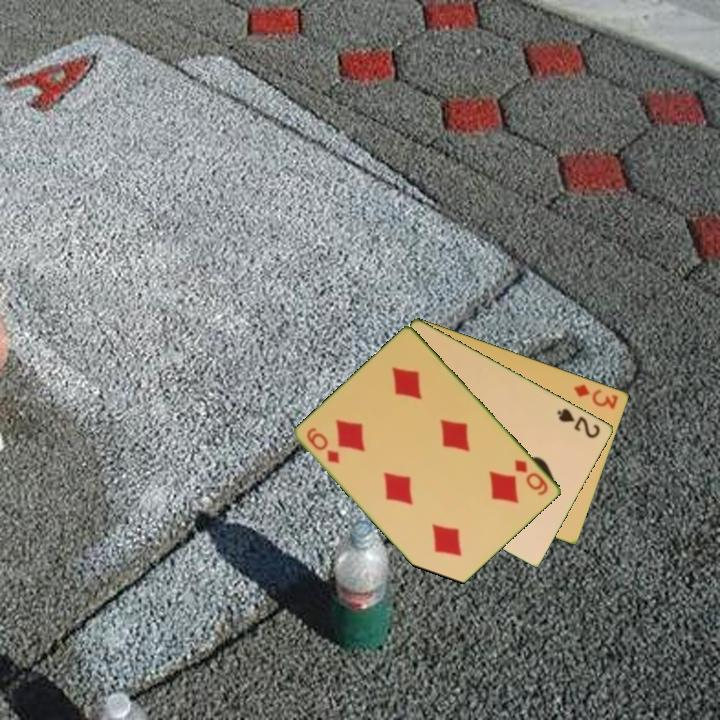2s: (554, 404, 603, 441)
3d: (570, 380, 622, 412)
6d: (511, 456, 551, 499), (303, 424, 343, 467)
